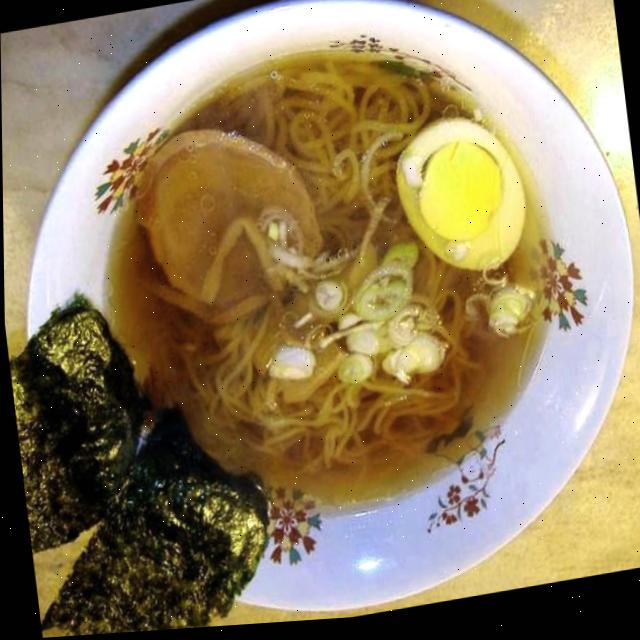面条主食: (44, 0, 621, 627)
